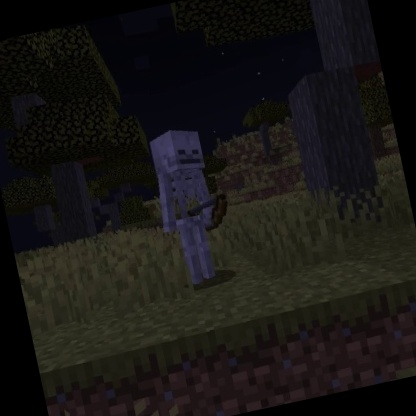skeleton: (138, 118, 247, 294)
